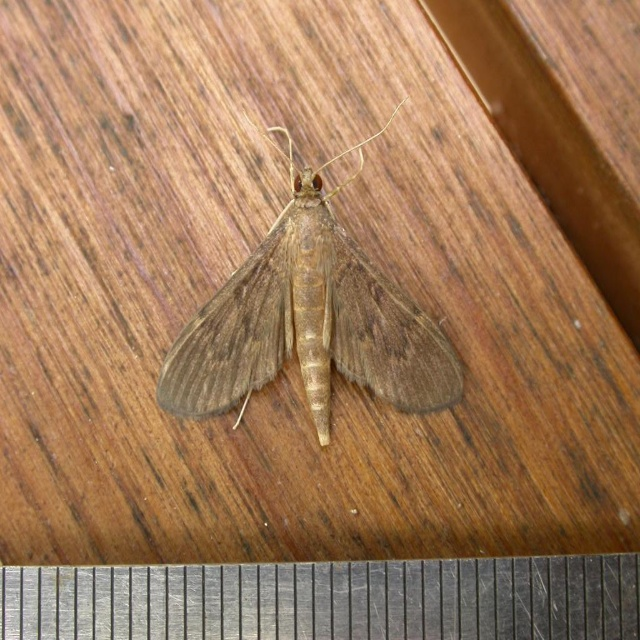Moths and butterflies: (152, 92, 469, 453)
